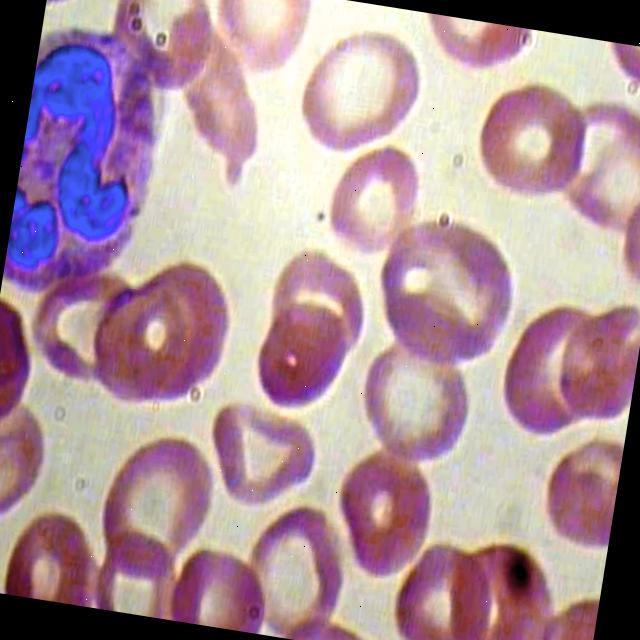RBC: (362, 201, 532, 380), (142, 7, 283, 193), (86, 422, 237, 592), (286, 25, 442, 174), (462, 70, 600, 218), (494, 292, 619, 450), (351, 331, 481, 472), (326, 442, 448, 590), (201, 389, 325, 525), (314, 132, 426, 267), (433, 530, 568, 640), (248, 296, 360, 426), (387, 530, 500, 640)
WBC: (1, 11, 176, 312)
